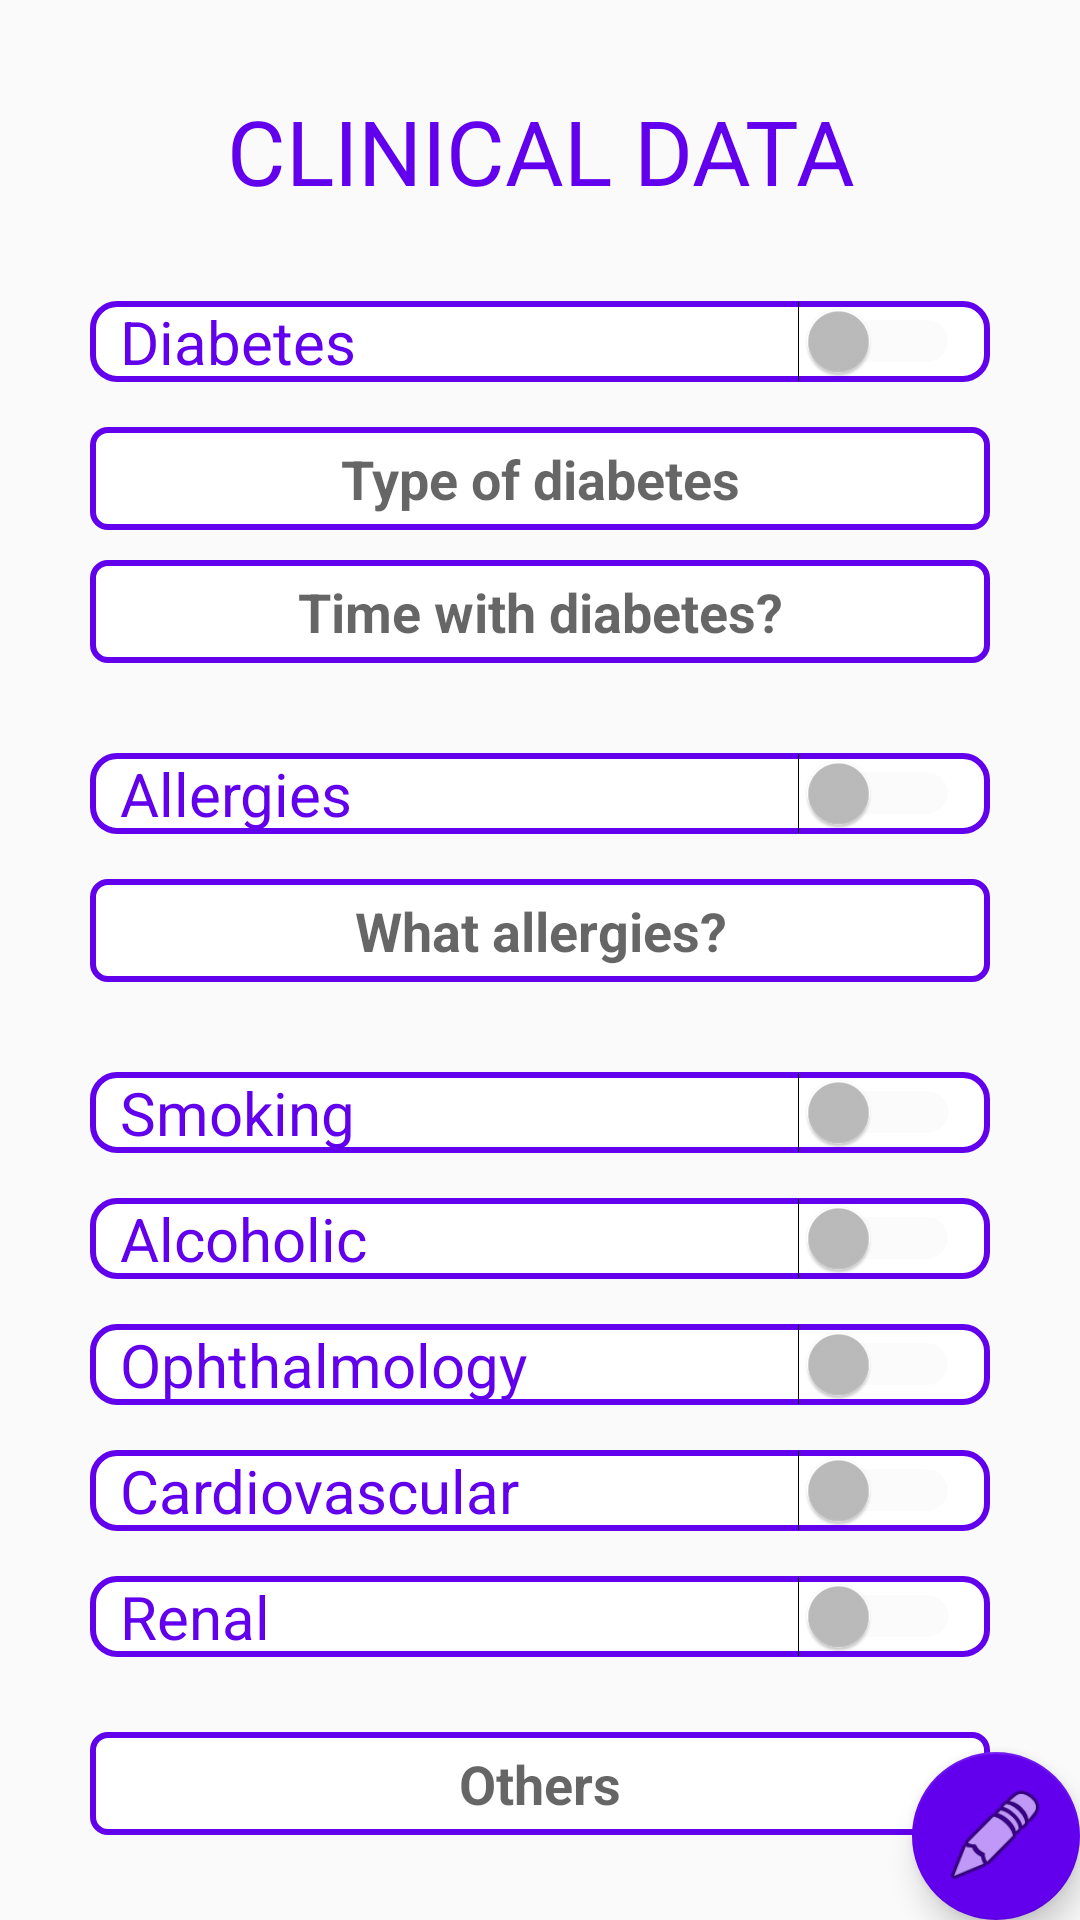

Where icons sit on this 1080px×1920px app screen, as {"x1": x1, "y1": y1, "x2": x2, "y2": y2}:
edit: {"x1": 912, "y1": 1752, "x2": 1080, "y2": 1920}
